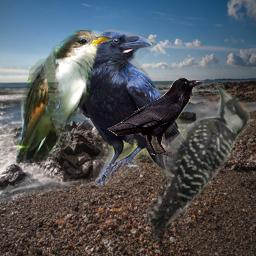Crow: (70, 29, 214, 185), (106, 75, 204, 155)
Cuckoo: (16, 30, 112, 163)
Woodpecker: (146, 79, 250, 245)
